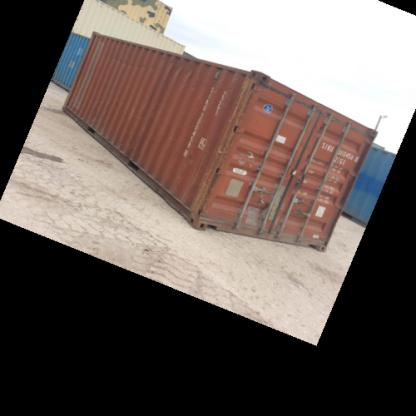Damage: (192, 160, 218, 219), (231, 74, 261, 122), (102, 50, 159, 75), (237, 199, 267, 230), (165, 59, 200, 83), (268, 182, 285, 222), (236, 146, 253, 167)
